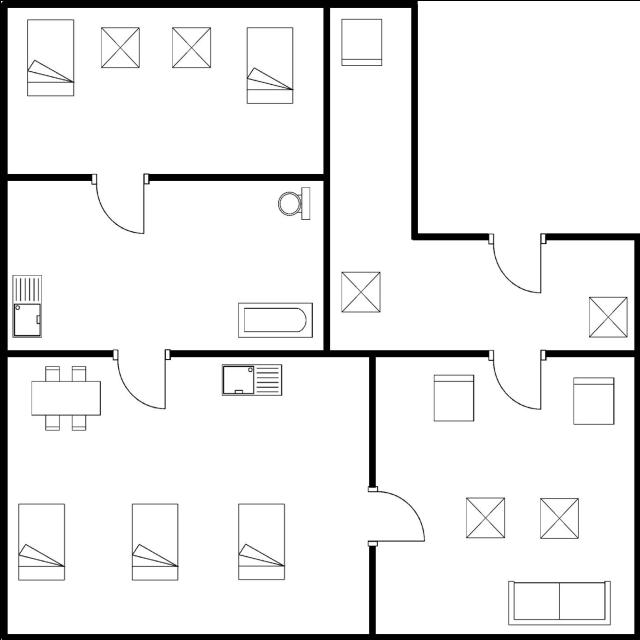bed: (20, 14, 80, 102), (230, 498, 290, 585), (240, 22, 298, 108), (127, 498, 183, 584), (13, 498, 69, 584)
coffee_table: (336, 262, 386, 316), (533, 493, 582, 543), (168, 22, 217, 72), (461, 492, 509, 542), (96, 23, 144, 73), (585, 292, 630, 340)
dining_table: (22, 362, 108, 434)
large_sink: (276, 182, 314, 224)
large_sofa: (502, 574, 614, 629)
sink: (215, 358, 288, 401), (8, 270, 46, 342)
small_sofa: (568, 371, 618, 429), (336, 15, 386, 70), (428, 370, 478, 424)
tub: (234, 296, 316, 342)
